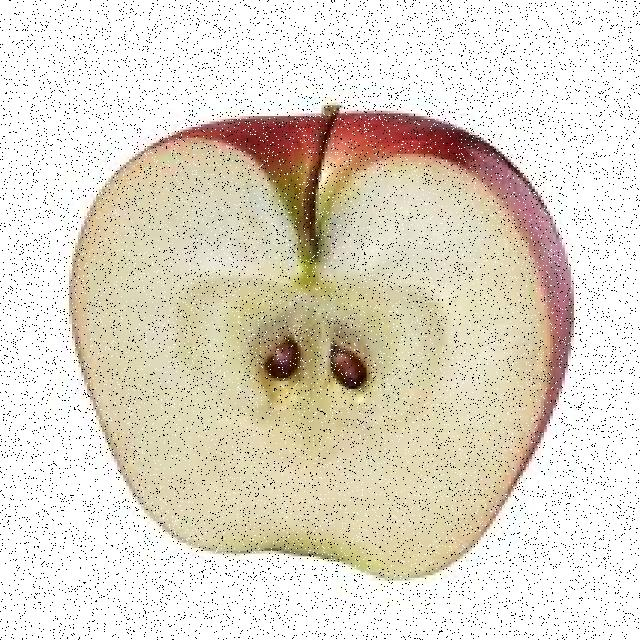Apple: (66, 115, 574, 575)
